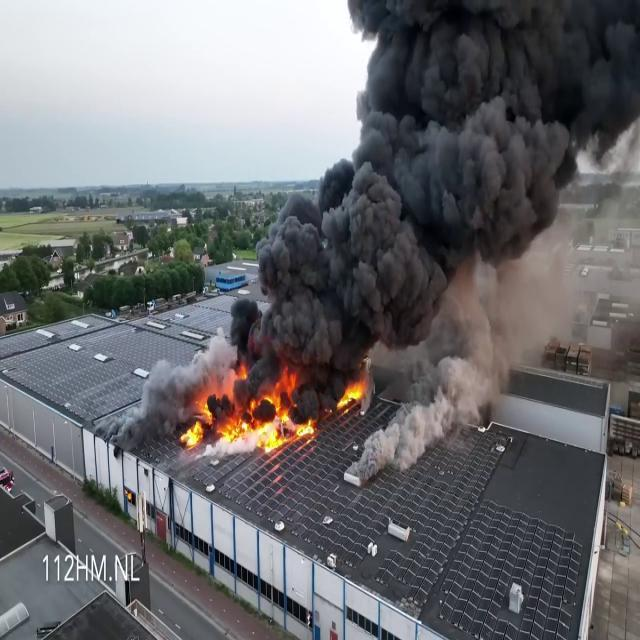Fire: (181, 374, 311, 454), (336, 374, 370, 412)
Smoke: (217, 0, 640, 438), (349, 223, 607, 488), (127, 334, 192, 440)
